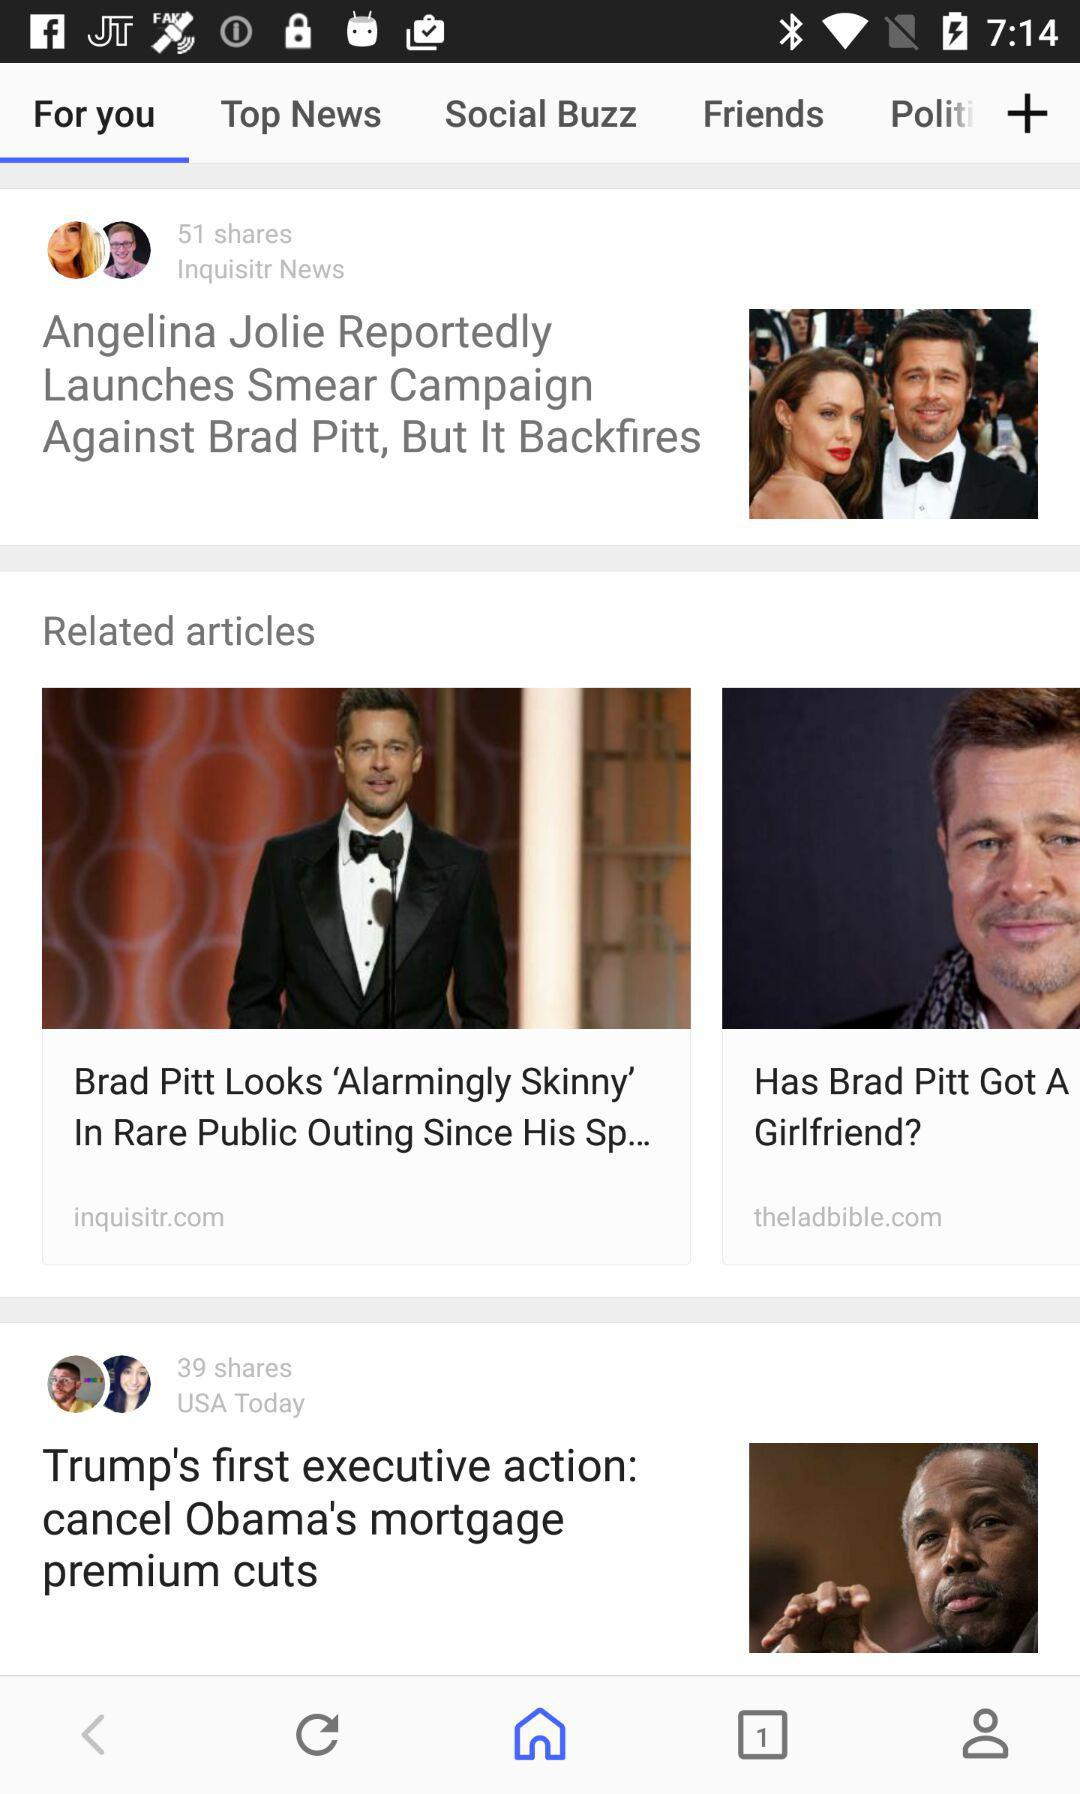Bottom_Navigation: (1, 1675, 1080, 1794)
Icon: (512, 1707, 568, 1761), (962, 1708, 1010, 1759), (295, 1712, 340, 1757), (1007, 94, 1049, 135), (81, 1715, 106, 1756)
Image: (44, 688, 692, 1029), (723, 688, 1080, 1030), (749, 1443, 1039, 1654), (749, 309, 1038, 520), (47, 220, 152, 281), (47, 1354, 152, 1413), (737, 1709, 788, 1759)
Multi_Tab: (1, 64, 1080, 165)
Text: (42, 311, 701, 464), (42, 1445, 637, 1597), (76, 1064, 651, 1155), (755, 1065, 1070, 1147), (45, 614, 316, 648), (446, 97, 638, 129), (222, 99, 382, 136), (179, 258, 346, 287), (35, 100, 156, 137), (74, 1205, 225, 1234), (753, 1205, 942, 1228), (178, 1392, 307, 1421), (705, 99, 824, 129), (177, 1354, 293, 1380), (178, 222, 293, 247), (890, 99, 974, 129)
UpperTaskBar: (1, 1, 1080, 64)
